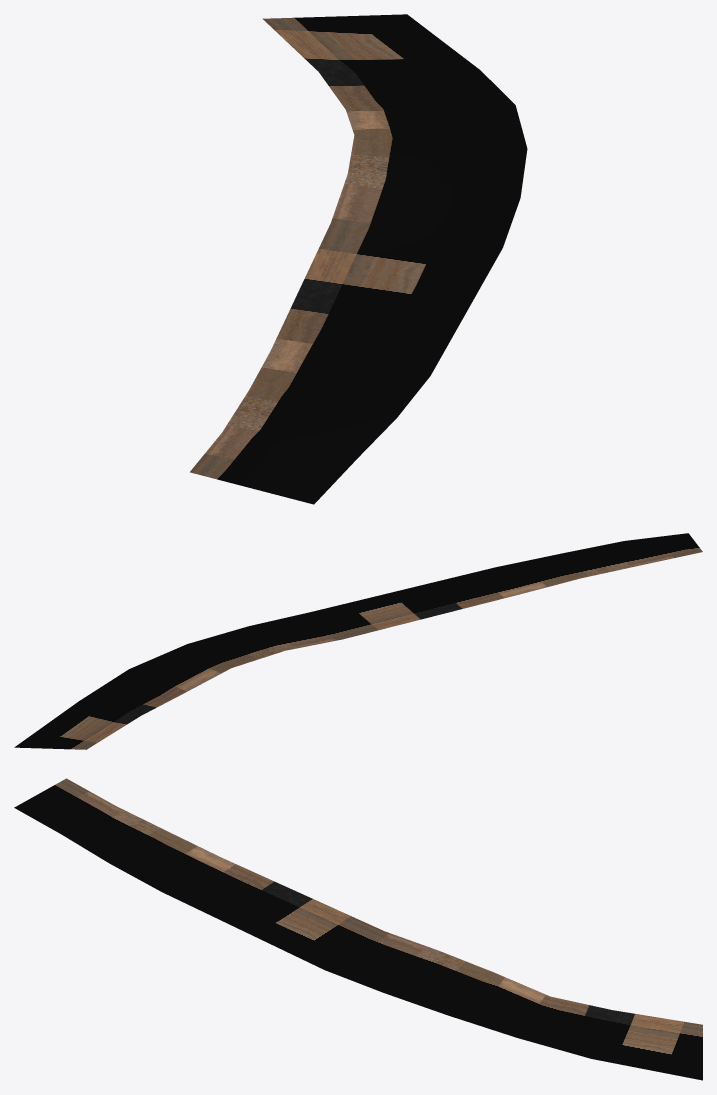
Rendered from Tide_GenerateSurfaceDecal_264AC822_1_FlowDecal_SmallMesh_Mesh_x10_y5_165_1_ATLAS.fbx.
3 renders of one model, top to bottom at view 1: azimuth 30°, elevation 25°; view 2: azimuth 150°, elevation 25°; view 3: azimuth 270°, elevation 25°, orthographic. The views are drawn at different scales.
Parts seen in each view (by area): view 1: Tide_GenerateSurfaceDecal_264AC822_1_FlowDecal_SmallMesh_Mes; view 2: Tide_GenerateSurfaceDecal_264AC822_1_FlowDecal_SmallMesh_Mes; view 3: Tide_GenerateSurfaceDecal_264AC822_1_FlowDecal_SmallMesh_Mes.
Boxes of the visible parts, x1,y1,x2,y2 form: Tide_GenerateSurfaceDecal_264AC822_1_FlowDecal_SmallMesh_Mes: (190, 14, 527, 504); Tide_GenerateSurfaceDecal_264AC822_1_FlowDecal_SmallMesh_Mes: (14, 533, 702, 749); Tide_GenerateSurfaceDecal_264AC822_1_FlowDecal_SmallMesh_Mes: (14, 778, 702, 1080).
Bounding box in the file's own units: 707 × 963 × 137.
